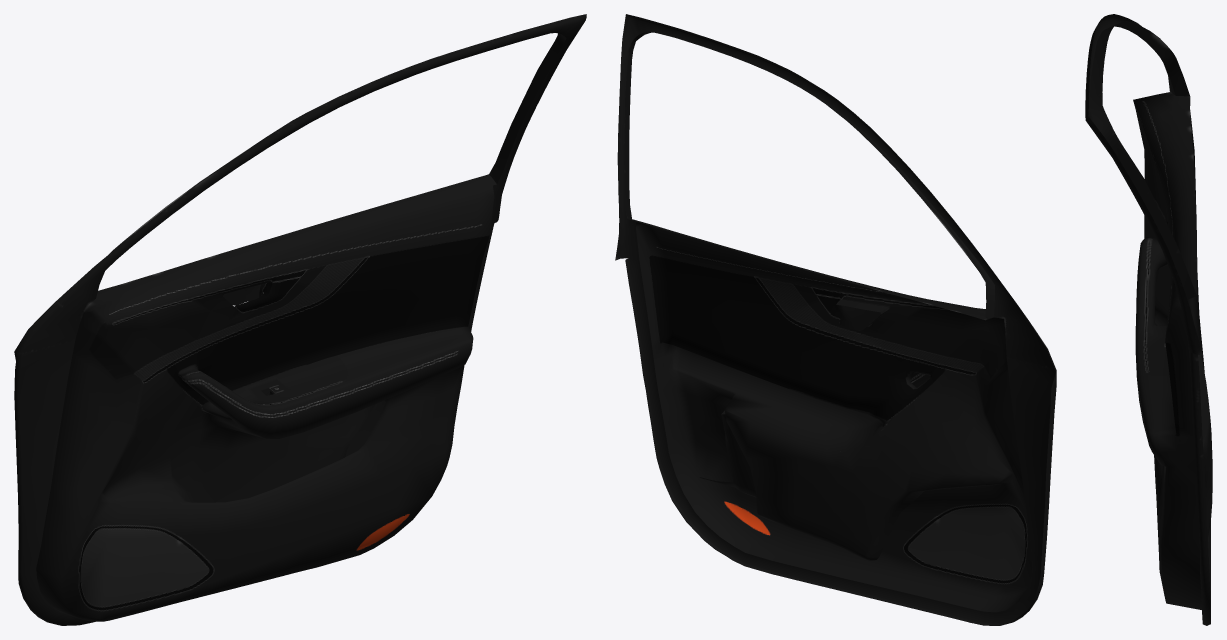
The model's file is SM_Car_MenRa.FBX.
3 renders of one model, left to right at view 1: azimuth 30°, elevation 25°; view 2: azimuth 150°, elevation 25°; view 3: azimuth 270°, elevation 25°, orthographic. The views are drawn at different scales.
Parts seen in each view (by area): view 1: chemen_03; view 2: chemen_03; view 3: chemen_03.
Part boxes in pixels (<box>): chemen_03: <box>14,14,586,625</box>; chemen_03: <box>615,14,1056,625</box>; chemen_03: <box>1085,14,1212,625</box>.
Size of the model in its own units: 117 by 114 by 21.54.
